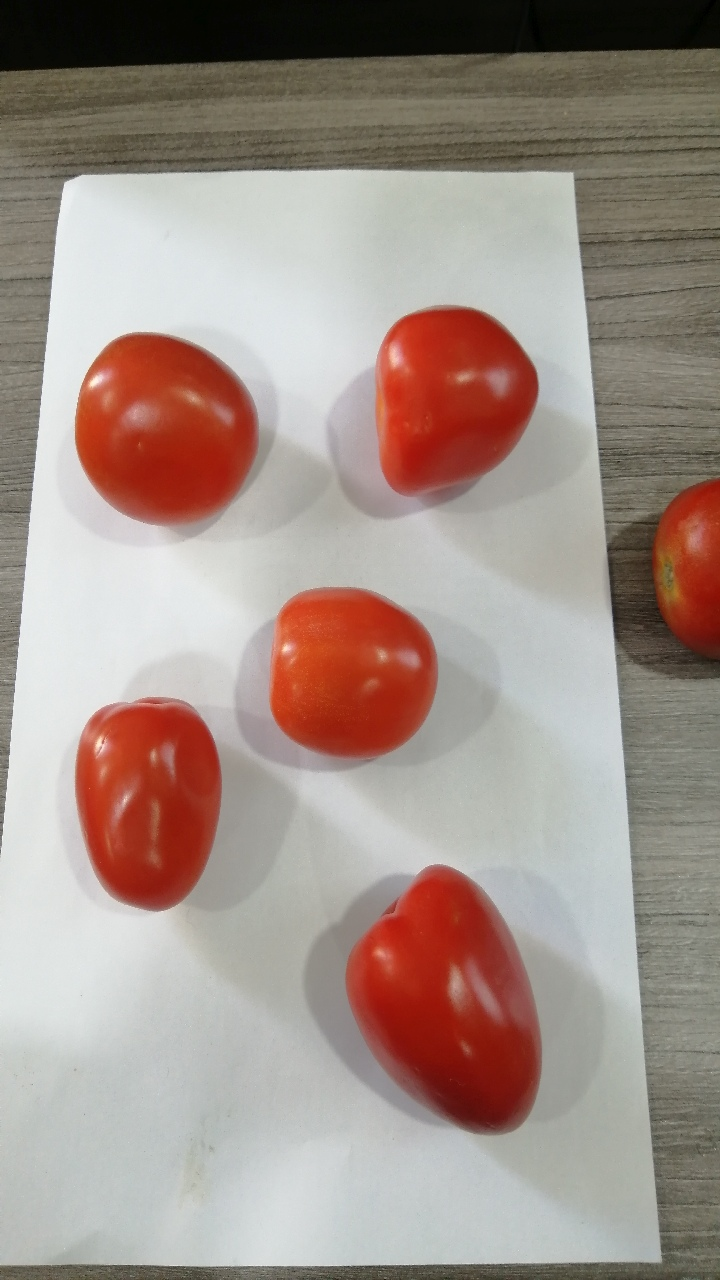tomateRojo: (320, 851, 546, 1145), (51, 303, 274, 551), (343, 280, 540, 529), (224, 563, 449, 768), (52, 679, 235, 919)
